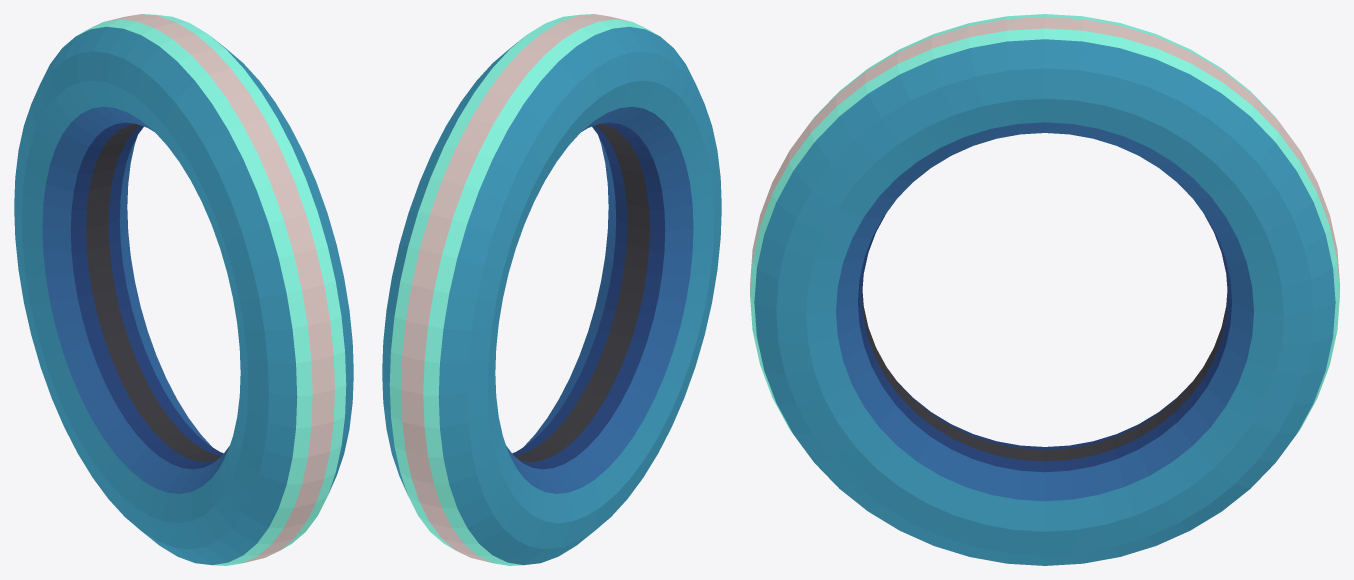
The model's file is crosshair.glb.
3 views of the same model, side by side, from view 1: azimuth 30°, elevation 25°; view 2: azimuth 150°, elevation 25°; view 3: azimuth 270°, elevation 25° (orthographic). The views are drawn at different scales.
Visible parts, largest first — view 1: Torus; view 2: Torus; view 3: Torus.
Part boxes in pixels (<box>): Torus: <box>14,14,353,565</box>; Torus: <box>382,14,721,565</box>; Torus: <box>750,14,1339,565</box>.
Size of the model in its own units: 0.5 by 2.47 by 2.47.
Materials: 1 (1 with a texture image).
